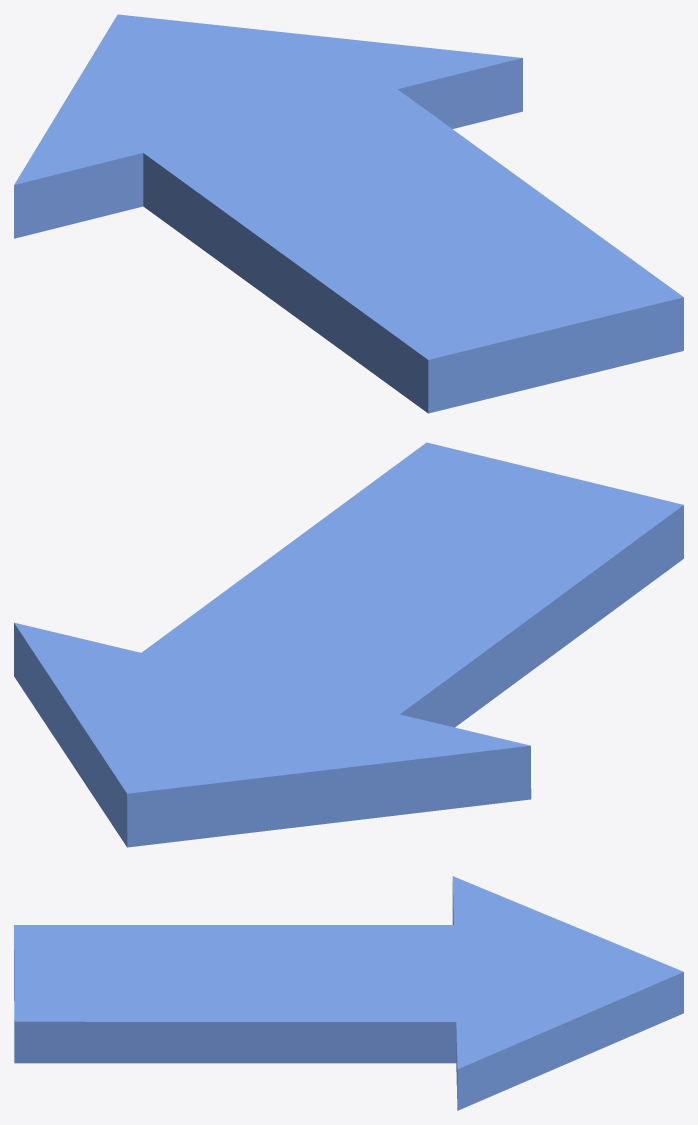
The model's file is arrow.fbx.
3 renders of one model, top to bottom at view 1: azimuth 30°, elevation 25°; view 2: azimuth 150°, elevation 25°; view 3: azimuth 270°, elevation 25°, orthographic. The views are drawn at different scales.
Visible parts, largest first — view 1: Box, Box1; view 2: Box, Box1; view 3: Box, Box1.
Boxes of the visible parts, x1,y1,x2,y2 form: Box: [143, 82, 683, 413]; Box1: [14, 14, 522, 238]; Box: [131, 442, 683, 727]; Box1: [14, 622, 531, 847]; Box: [14, 925, 472, 1063]; Box1: [452, 876, 683, 1110].
Bounding box in the file's own units: 0.9999 × 0.1016 × 1.46.
